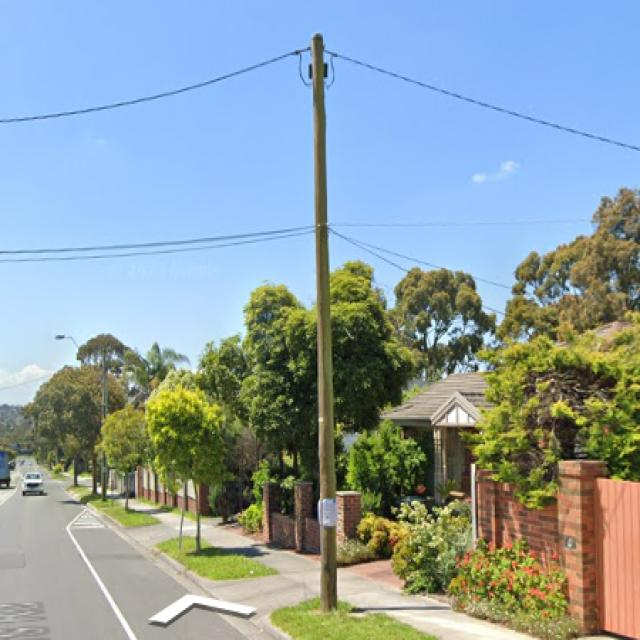streetlight: (52, 333, 104, 389)
timber-pole: (312, 31, 338, 610), (101, 344, 108, 502)
